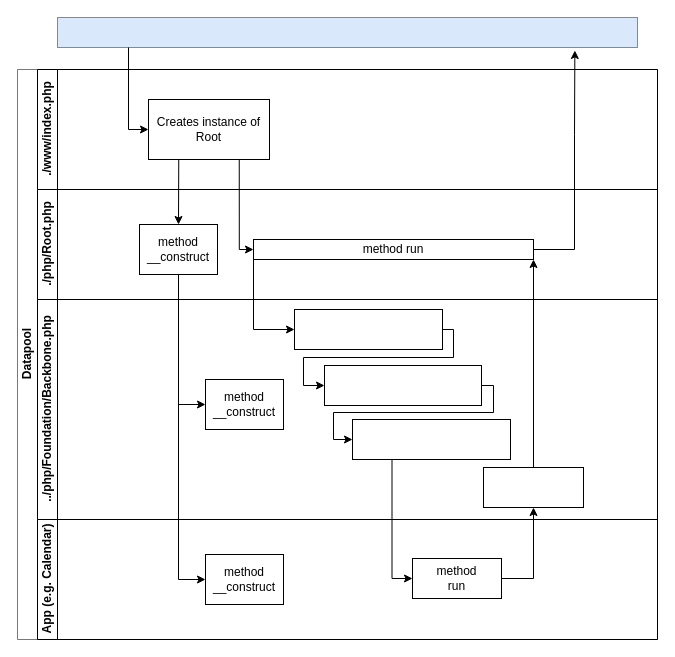
Image size: 675x657. Some labels were removed from this diagram. The shapes that lost their labels are listed below. From the top down, each one's centre as x and y in pixels, then its label:
the point at 347,32: Client: Web Browser
the point at 368,329: method addHtmlPageBackbone
the point at 403,385: method addHtmlPageHeader
the point at 431,439: method addHtmlPageBody
the point at 533,487: method finalizePage
